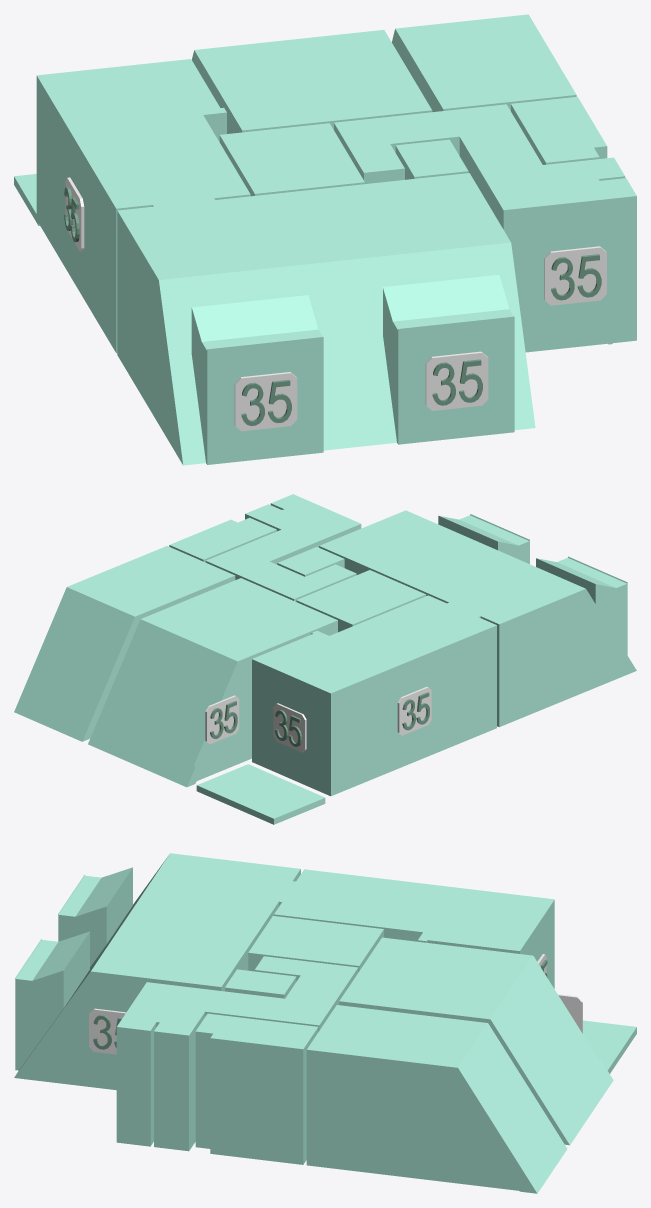
3 renders of one model, top to bottom at view 1: azimuth 30°, elevation 25°; view 2: azimuth 150°, elevation 25°; view 3: azimuth 270°, elevation 25°, orthographic. The views are drawn at different scales.
Visible parts, largest first — view 1: g_0, g_1, g_5, g_2, g_3, g_4, g_7, g_14, g_17, g_26, g_6, g_8 (+1 smaller); view 2: g_1, g_0, g_2, g_3, g_5, g_8, g_4, g_7, g_6, g_23, g_29, g_20; view 3: g_3, g_0, g_2, g_5, g_7, g_1, g_4, g_8, g_6, g_11.
Part boxes in pixels (left/top/right/bottom): g_0: left=117, top=173, right=535, bottom=465; g_1: left=36, top=59, right=250, bottom=353; g_5: left=334, top=104, right=636, bottom=352; g_2: left=192, top=30, right=432, bottom=133; g_3: left=392, top=14, right=576, bottom=111; g_4: left=219, top=123, right=364, bottom=196; g_7: left=511, top=96, right=607, bottom=164; g_14: left=234, top=372, right=297, bottom=431; g_17: left=425, top=351, right=488, bottom=410; g_26: left=544, top=246, right=606, bottom=305; g_6: left=395, top=139, right=468, bottom=179; g_8: left=14, top=174, right=39, bottom=225; g_1: left=252, top=595, right=496, bottom=796; g_0: left=319, top=510, right=636, bottom=727; g_2: left=88, top=578, right=337, bottom=787; g_3: left=14, top=546, right=235, bottom=741; g_5: left=205, top=494, right=361, bottom=601; g_8: left=196, top=764, right=325, bottom=824; g_4: left=296, top=570, right=426, bottom=632; g_7: left=169, top=517, right=276, bottom=562; g_6: left=277, top=547, right=344, bottom=576; g_23: left=205, top=695, right=239, bottom=744; g_29: left=397, top=687, right=431, bottom=735; g_20: left=273, top=703, right=306, bottom=752; g_3: left=306, top=1005, right=567, bottom=1193; g_0: left=14, top=853, right=300, bottom=1090; g_2: left=339, top=937, right=613, bottom=1145; g_5: left=116, top=956, right=358, bottom=1151; g_7: left=195, top=1013, right=318, bottom=1164; g_1: left=274, top=869, right=554, bottom=988; g_4: left=248, top=916, right=383, bottom=972; g_8: left=583, top=1020, right=636, bottom=1073; g_6: left=225, top=969, right=296, bottom=998; g_11: left=89, top=1008, right=126, bottom=1054.
Bounding box in the file's own units: 11.01 × 2.71 × 12.42.
